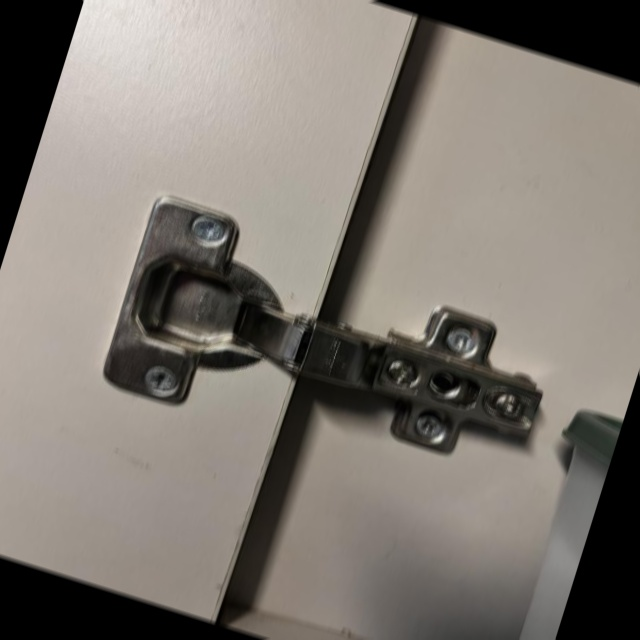pozidriv: (188, 212, 229, 247), (143, 363, 180, 396), (446, 327, 479, 355), (414, 413, 444, 440)
